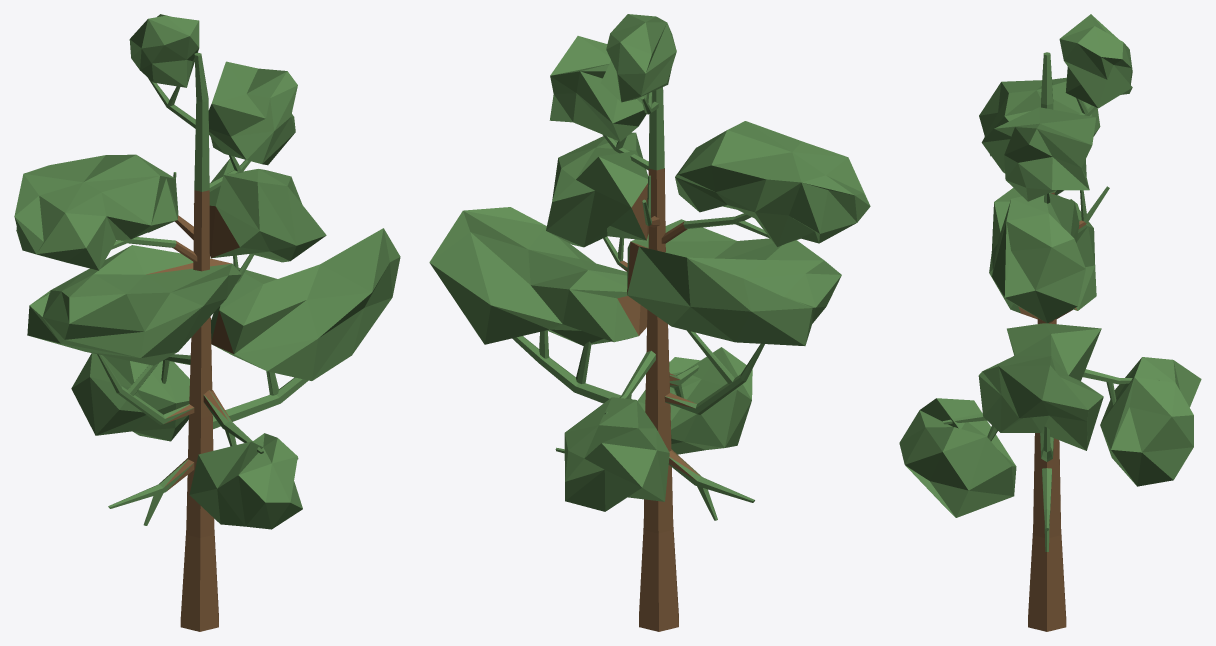
File: tree3d-113.glb
3 renders of one model, left to right at view 1: azimuth 30°, elevation 25°; view 2: azimuth 150°, elevation 25°; view 3: azimuth 270°, elevation 25°, orthographic. The views are drawn at different scales.
Parts seen in each view (by area): view 1: tree3d-113; view 2: tree3d-113; view 3: tree3d-113.
Boxes of the visible parts, <box> form: tree3d-113: <box>14,14,400,631</box>; tree3d-113: <box>429,14,870,631</box>; tree3d-113: <box>899,14,1201,631</box>.
Size of the model in its own units: 0.6759 by 1 by 0.4611.
